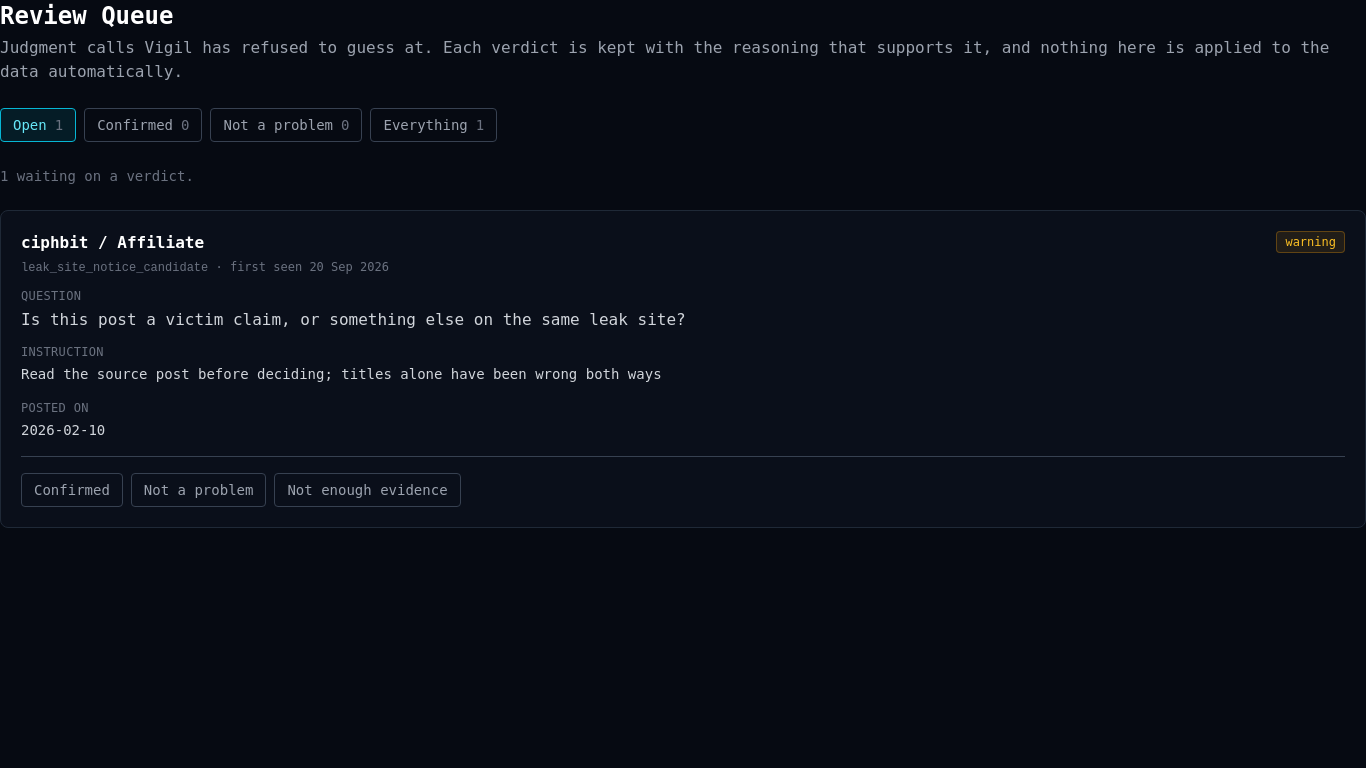
Scenario: ReviewQueue › surfaces a refusal from the database instead of pretending it saved
The width and height of the screenshot is (1366, 768).
Expected: the heading "ciphbit / Affiliate" is shown, [21,233,204,252]
Click the button "Confirmed" at (72, 490), box [21,473,123,507]
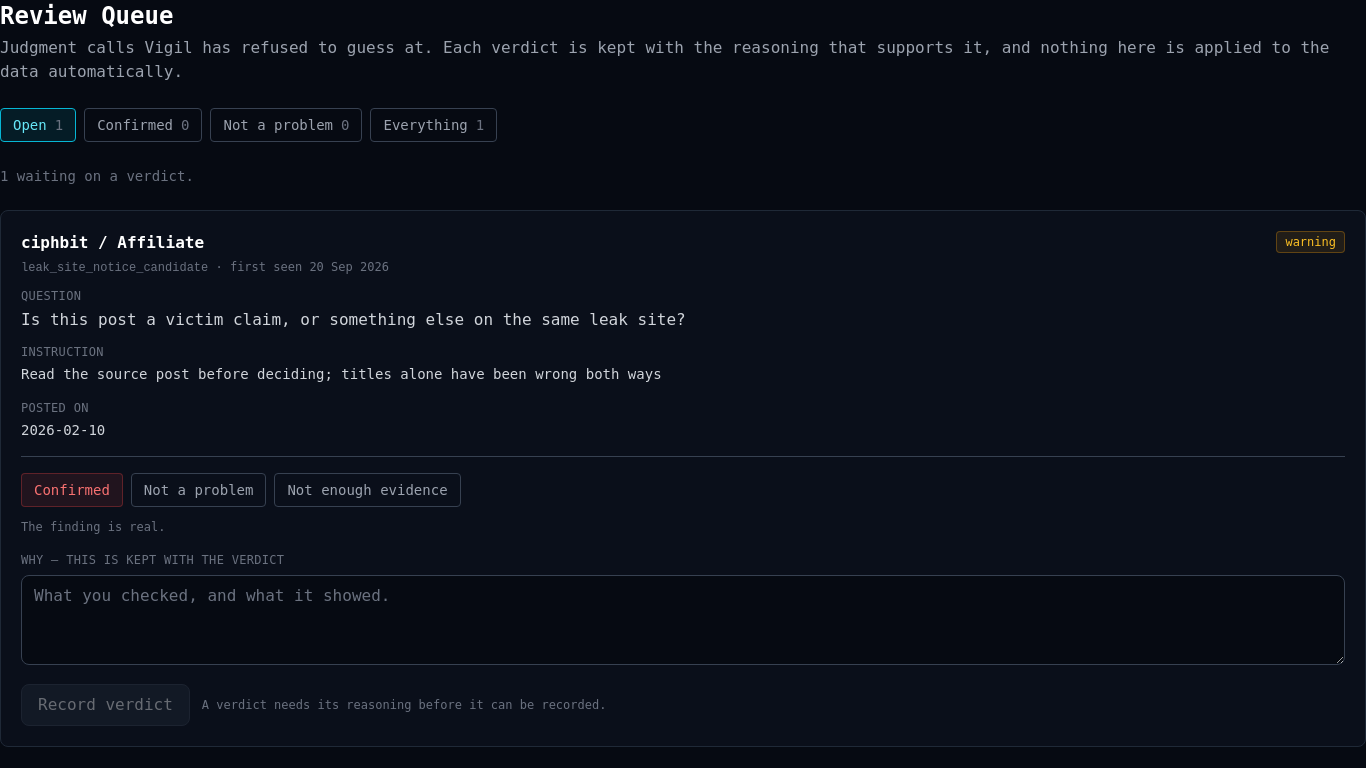
Type "A reason long enough to pass the client check." into the text box at (683, 620), box [21,575,1345,665]
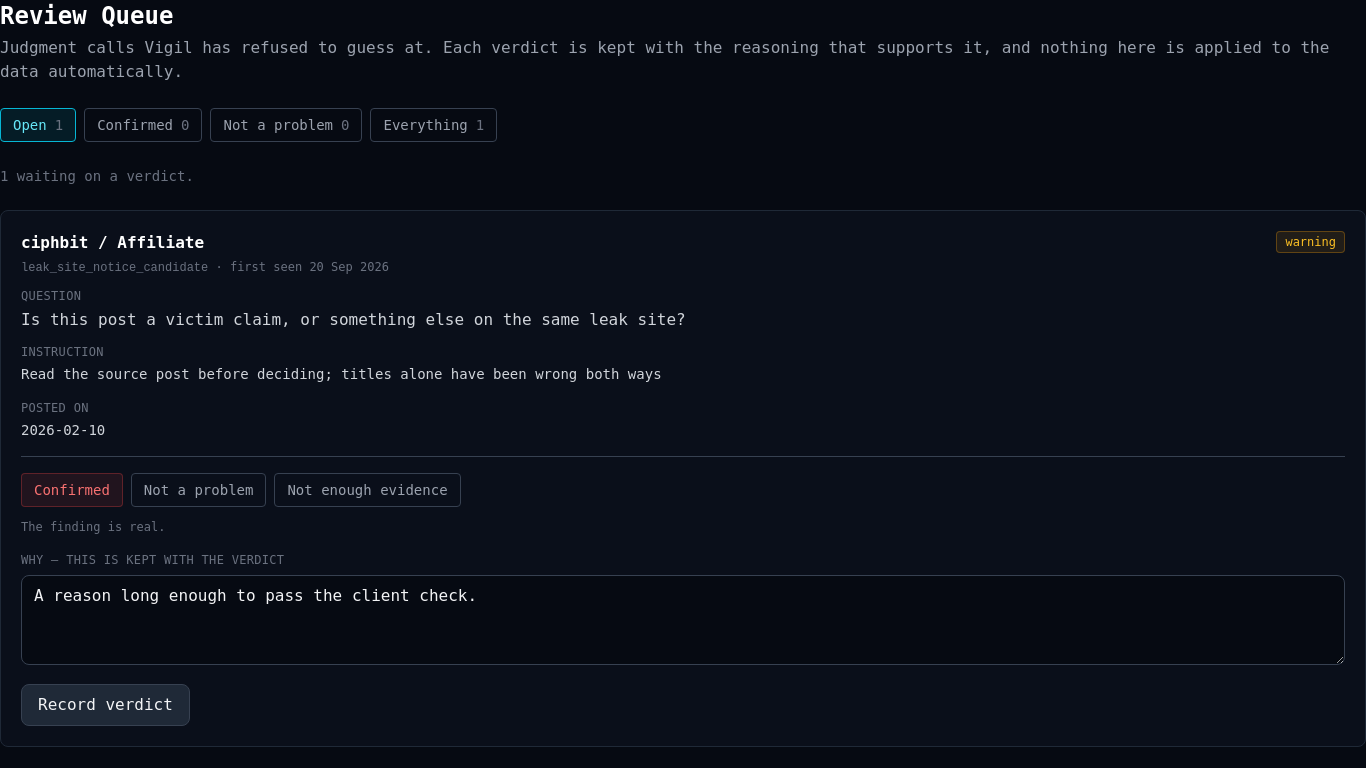
Click the button "Record verdict" at (105, 705), box [21,684,190,726]
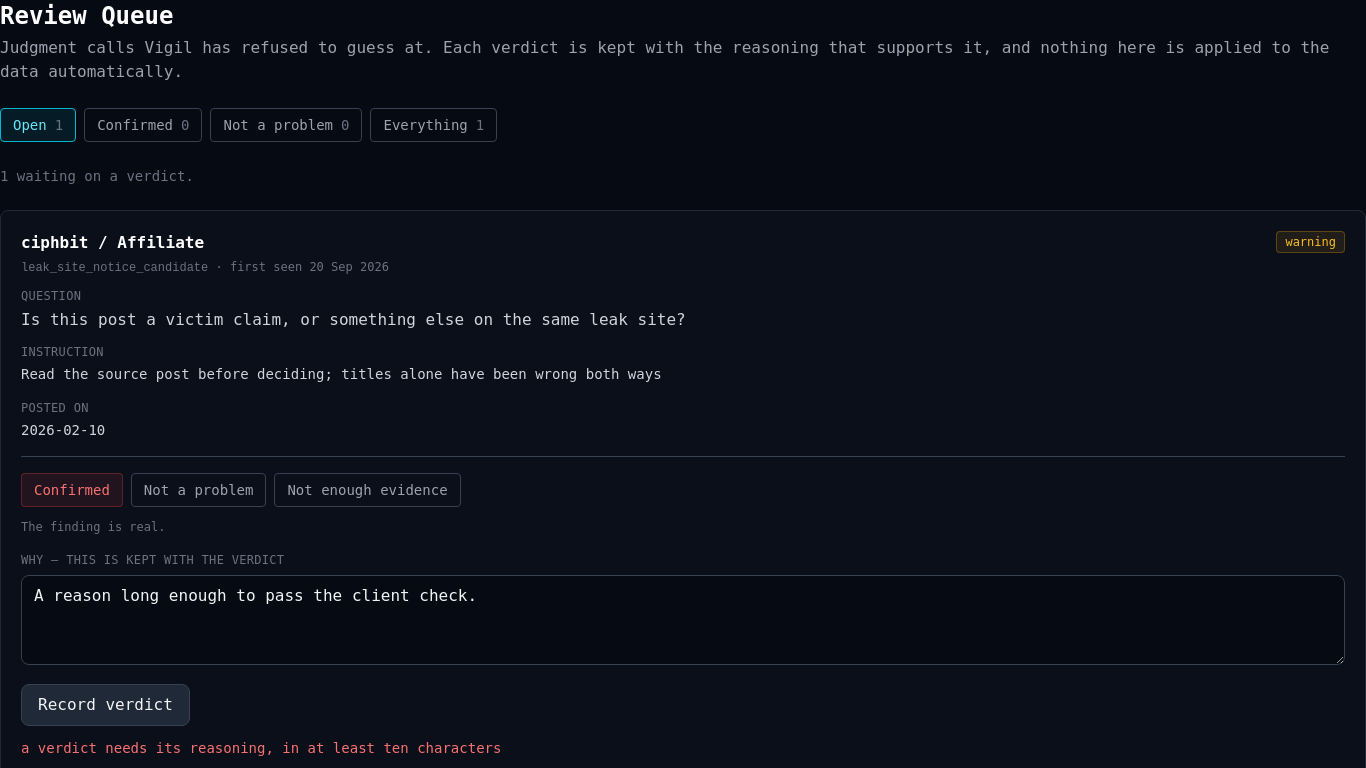
Result: the text "a verdict needs its reasoning, in at least ten characters" is shown at [21,740,501,756]
